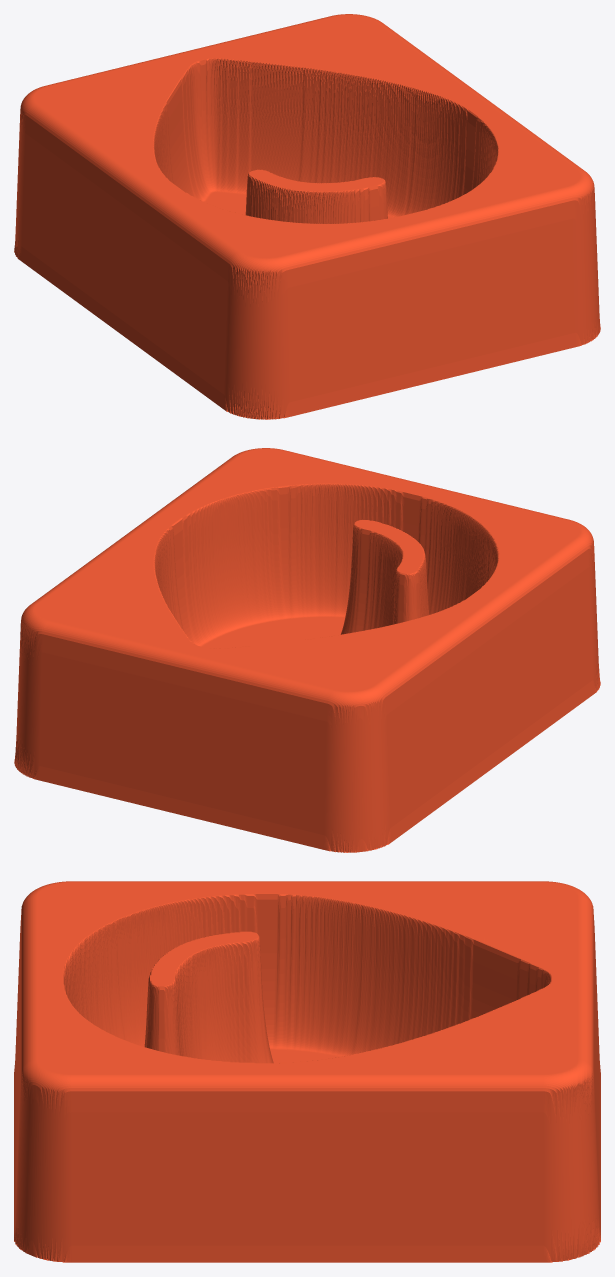
File: mold.glb
3 views of the same model, one above another, from view 1: azimuth 30°, elevation 25°; view 2: azimuth 150°, elevation 25°; view 3: azimuth 270°, elevation 25° (orthographic). The views are drawn at different scales.
Visible parts, largest first — view 1: geometry_0; view 2: geometry_0; view 3: geometry_0.
Part boxes in pixels (x1,y1,x2,y2): geometry_0: [14, 14, 600, 419]; geometry_0: [14, 448, 600, 852]; geometry_0: [14, 881, 600, 1262].
Size of the model in its own units: 0.0786 by 0.031 by 0.0924.
